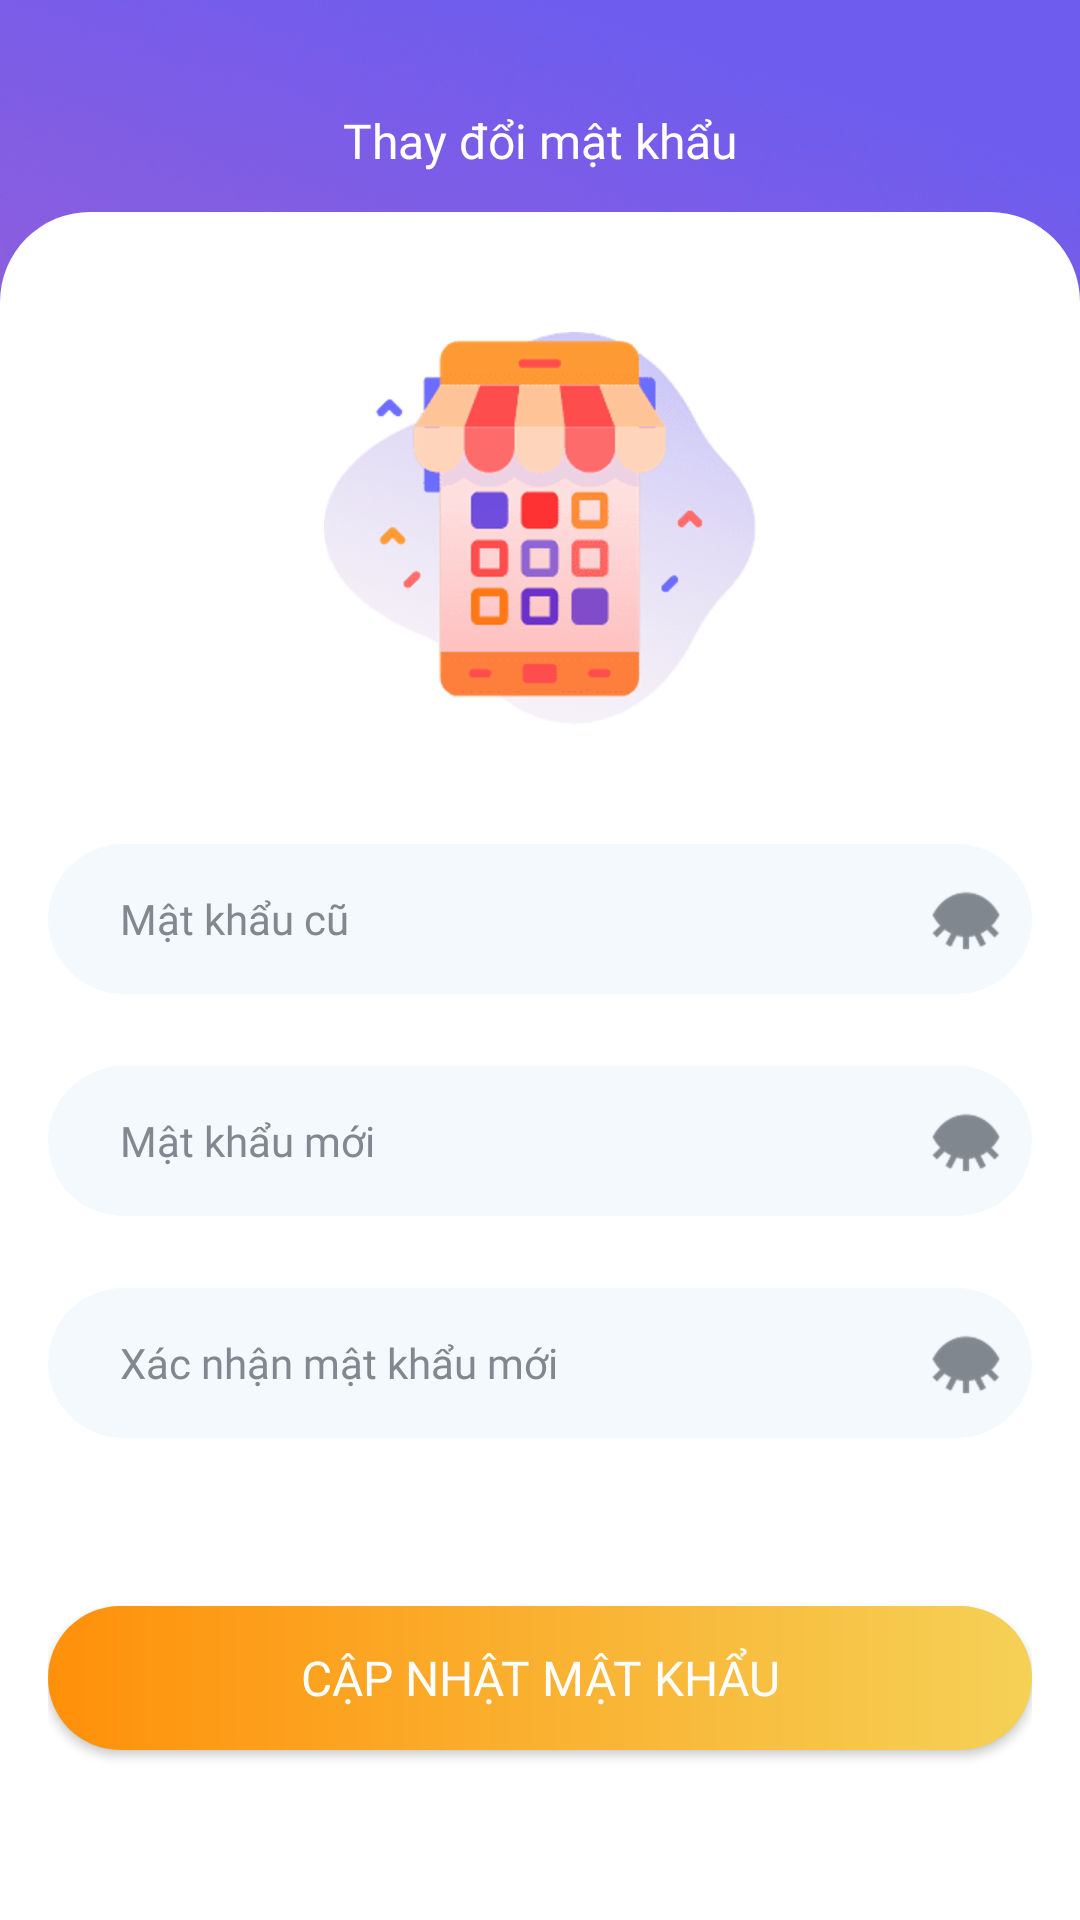

Icon bounding boxes for this 1080x1920 phone screenshot, format {"x1": x1, "y1": y1, "x2": x2, "y2": y2}:
hide eye: {"x1": 932, "y1": 892, "x2": 1000, "y2": 949}, {"x1": 932, "y1": 1114, "x2": 1000, "y2": 1171}, {"x1": 932, "y1": 1336, "x2": 1000, "y2": 1393}
